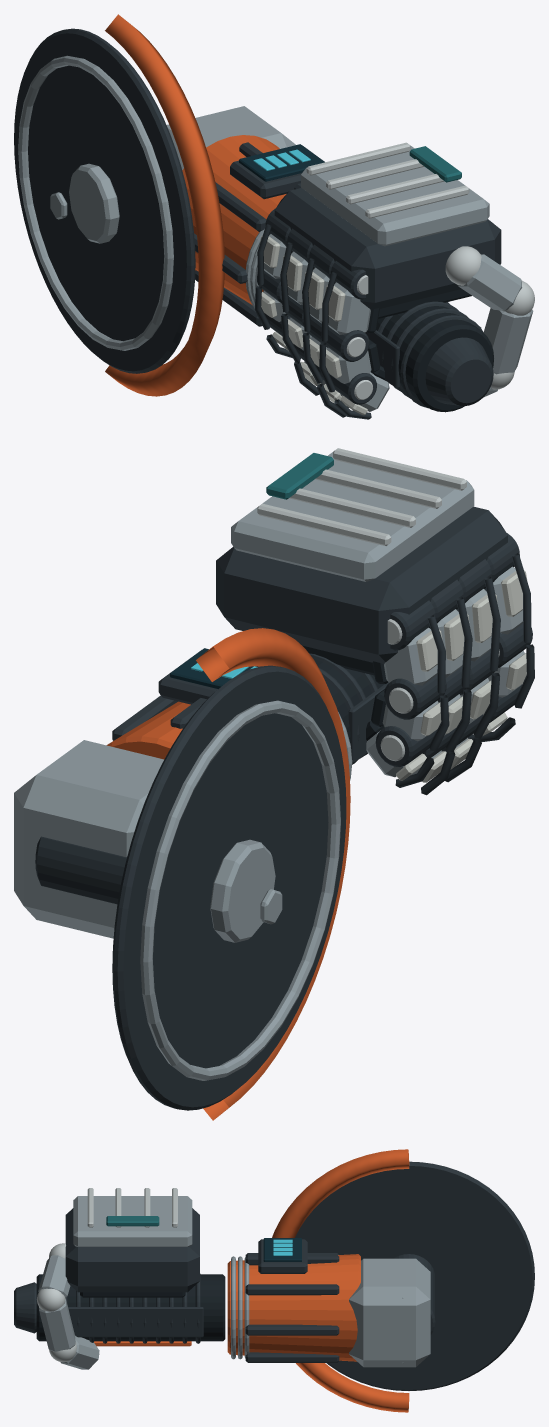
The model's file is tool_grinder.glb.
The picture shows the model from 3 angles, top to bottom: view 1: azimuth 30°, elevation 25°; view 2: azimuth 150°, elevation 25°; view 3: azimuth 270°, elevation 25°; orthographic projection. The views are drawn at different scales.
Parts seen in each view (by area): view 1: hand, rotor, tool; view 2: rotor, hand, tool; view 3: tool, rotor, hand.
Boxes of the visible parts, left/top/right/bottom form: hand: left=255, top=142, right=534, bottom=419; rotor: left=14, top=28, right=195, bottom=373; tool: left=50, top=14, right=493, bottom=412; rotor: left=112, top=665, right=346, bottom=1110; hand: left=216, top=448, right=534, bottom=795; tool: left=14, top=628, right=388, bottom=1120; tool: left=14, top=1149, right=435, bottom=1412; rotor: left=295, top=1161, right=534, bottom=1390; hand: left=37, top=1188, right=199, bottom=1369.
Size of the model in its own units: 0.151 by 0.242 by 0.434.
